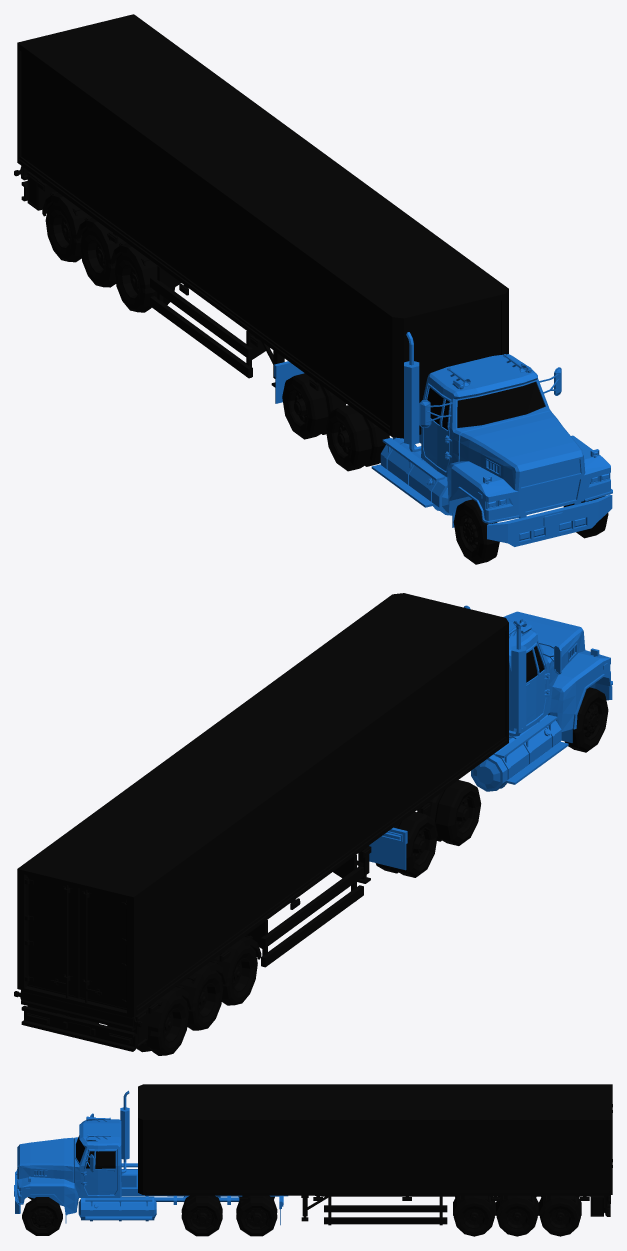
File: SM_truck.fbx
The picture shows the model from 3 angles, top to bottom: view 1: azimuth 30°, elevation 25°; view 2: azimuth 150°, elevation 25°; view 3: azimuth 270°, elevation 25°; orthographic projection. The views are drawn at different scales.
Parts seen in each view (by area): view 1: Cube_48, Symmetry_2, Cylinder_6, Cylinder_1_2, Cylinder_4, Oil_Tank_3, Oil_Tank_1, Oil_Tank_4; view 2: Cube_48, Symmetry_2, Symmetry_16, Symmetry_14, Cylinder_6, Cylinder_1_2, Cylinder_4, Oil_Tank_1, Oil_Tank_4, Oil_Tank_3; view 3: Cube_48, Symmetry_2, Cylinder_6, Cylinder_1_2, Cylinder_5, Oil_Tank_1, Oil_Tank_4, Oil_Tank_3.
Boxes of the visible parts, <box> form: Cube_48: <box>14,14,508,438</box>; Symmetry_2: <box>274,332,612,546</box>; Cylinder_6: <box>325,405,389,471</box>; Cylinder_1_2: <box>282,373,346,439</box>; Cylinder_4: <box>453,499,499,564</box>; Oil_Tank_3: <box>114,252,174,312</box>; Oil_Tank_1: <box>45,202,81,262</box>; Oil_Tank_4: <box>80,227,115,287</box>; Cube_48: <box>14,593,508,1051</box>; Symmetry_2: <box>369,605,612,870</box>; Symmetry_16: <box>24,876,76,998</box>; Symmetry_14: <box>77,887,126,1008</box>; Cylinder_6: <box>417,780,481,845</box>; Cylinder_1_2: <box>375,812,437,877</box>; Cylinder_4: <box>564,687,608,752</box>; Oil_Tank_1: <box>66,995,188,1055</box>; Oil_Tank_4: <box>187,970,223,1030</box>; Oil_Tank_3: <box>222,945,257,1005</box>; Cube_48: <box>138,1084,612,1225</box>; Symmetry_2: <box>14,1090,287,1225</box>; Cylinder_6: <box>181,1195,222,1236</box>; Cylinder_1_2: <box>236,1195,277,1236</box>; Cylinder_5: <box>22,1197,62,1235</box>; Oil_Tank_1: <box>540,1196,580,1236</box>; Oil_Tank_4: <box>496,1196,537,1236</box>; Oil_Tank_3: <box>453,1196,494,1236</box>.
Size of the model in its own units: 298 by 377 by 1726.
